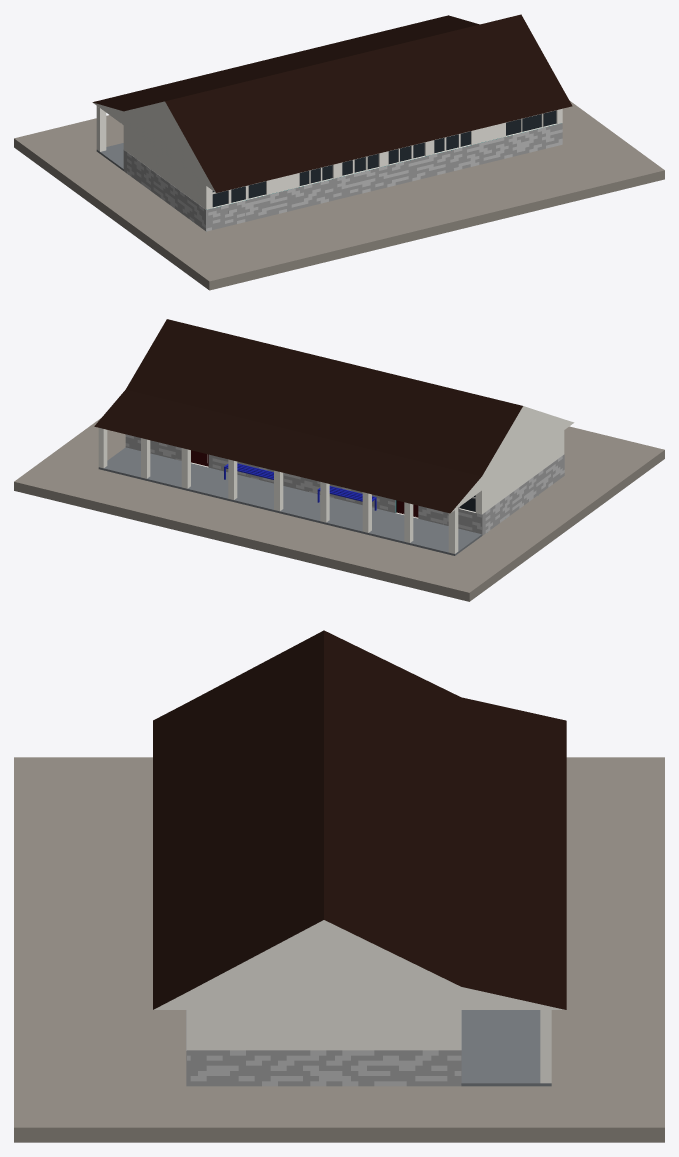
File: pakjoko.glb
3 views of the same model, one above another, from view 1: azimuth 30°, elevation 25°; view 2: azimuth 150°, elevation 25°; view 3: azimuth 270°, elevation 25° (orthographic). The views are drawn at different scales.
Parts seen in each view (by area): view 1: Cube.002; view 2: Cube.002, Cube.013; view 3: Cube.002.
Part boxes in pixels (bbox=[...]): Cube.002: bbox=[14, 14, 664, 290]; Cube.002: bbox=[14, 319, 664, 601]; Cube.013: bbox=[224, 463, 376, 510]; Cube.002: bbox=[14, 630, 664, 1142].
Size of the model in its own units: 30.74 by 7.04 by 22.85.
